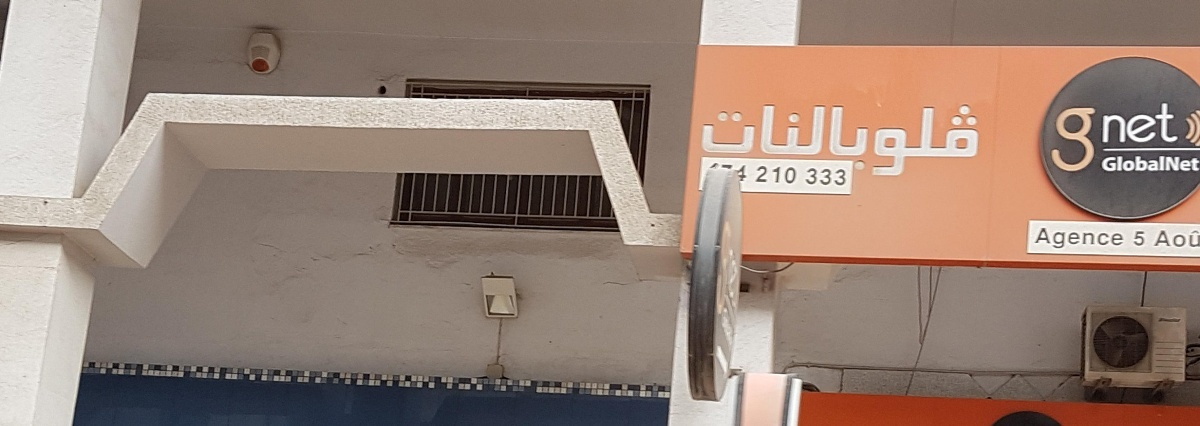text: (705, 101, 720, 178), (721, 101, 736, 178), (737, 101, 752, 178), (753, 101, 768, 178), (769, 101, 784, 178), (785, 101, 800, 178), (801, 101, 816, 178), (817, 101, 832, 178), (833, 101, 848, 178), (849, 101, 864, 178), (865, 101, 880, 178), (881, 101, 896, 178), (897, 101, 912, 178), (913, 101, 928, 178), (929, 101, 944, 178), (945, 101, 960, 178), (961, 101, 976, 178), (1057, 106, 1072, 175), (1073, 106, 1088, 175), (1089, 106, 1099, 175), (1105, 102, 1120, 147), (1121, 102, 1136, 147), (1137, 102, 1152, 147), (1153, 102, 1168, 147), (1169, 102, 1183, 147), (977, 101, 984, 178), (705, 159, 720, 186), (721, 159, 736, 186), (1153, 227, 1168, 251), (1169, 227, 1184, 251), (1185, 227, 1200, 251), (737, 159, 750, 186), (1041, 227, 1056, 250), (1057, 227, 1072, 250), (1073, 227, 1088, 250), (1089, 227, 1104, 250), (1105, 227, 1120, 250), (769, 164, 784, 185), (817, 168, 832, 187), (1105, 154, 1120, 173), (1121, 154, 1136, 173), (1137, 154, 1152, 173), (1153, 154, 1168, 173), (1169, 154, 1184, 173), (1185, 154, 1200, 173), (833, 168, 847, 187), (785, 164, 797, 185), (758, 164, 768, 185), (805, 168, 816, 187), (1054, 106, 1056, 175), (1137, 231, 1145, 248), (1101, 102, 1104, 147), (1121, 227, 1125, 250), (1132, 231, 1136, 248), (1101, 154, 1104, 173), (703, 159, 704, 186)
